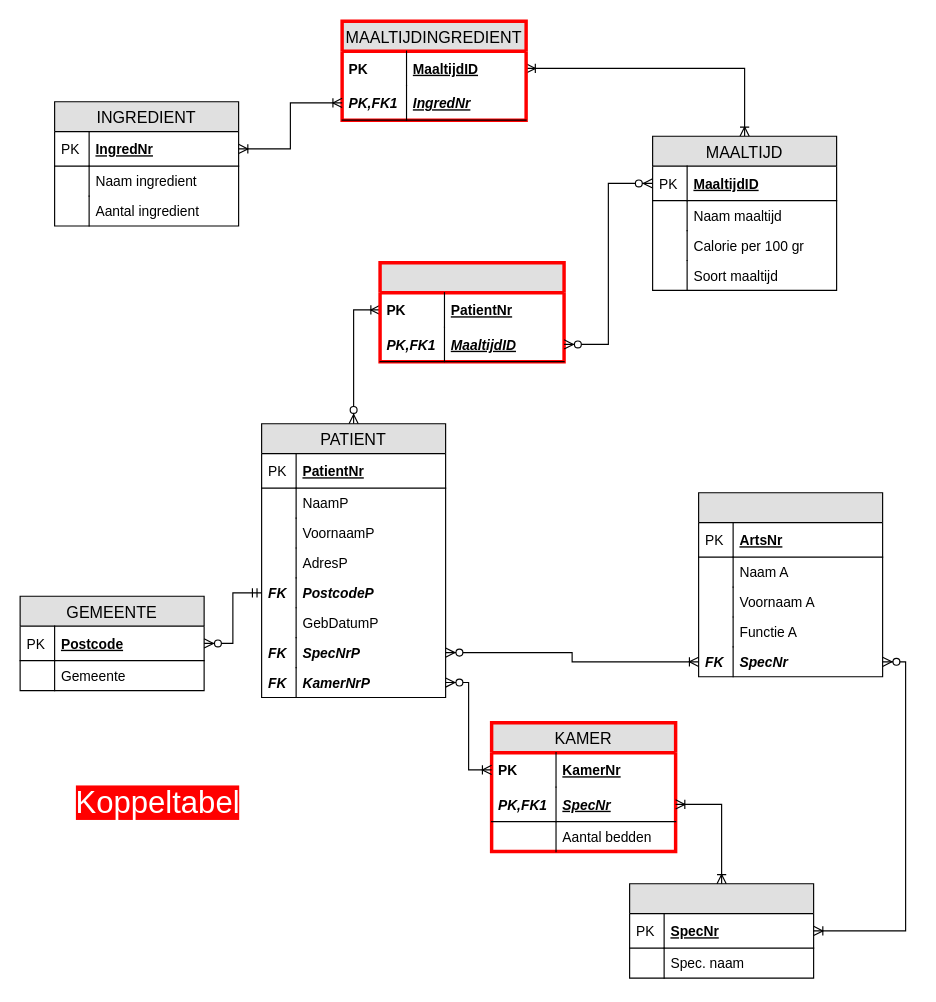
Some shapes in this 936 by 1002 pixel diagram are drawn without their labels. Each missing label, with the box of its shape:
ARTSEN: (697, 492, 883, 677)
MAALTIJDPATIENT: (378, 260, 565, 363)
SPECIALISME: (628, 883, 814, 978)
